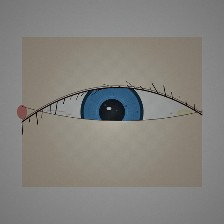pinguecula_lesion: (168, 101, 201, 127)
